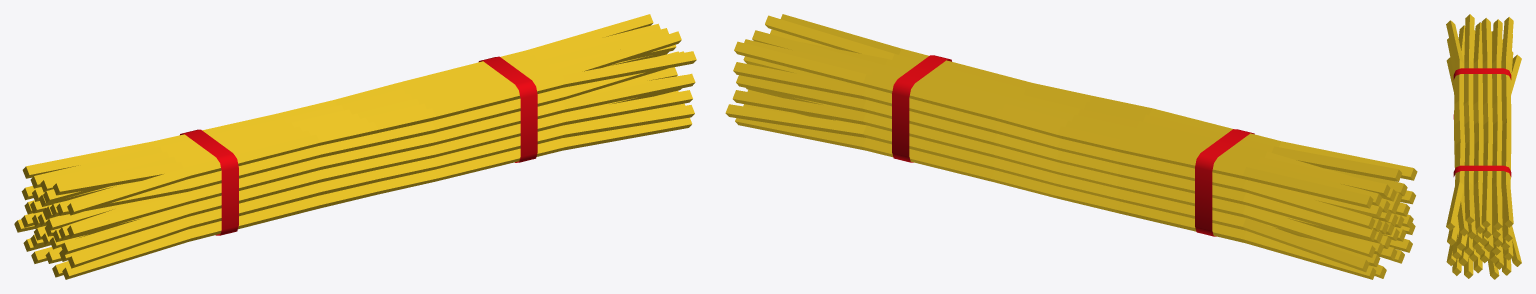
File: thatch.glb
3 renders of one model, left to right at view 1: azimuth 30°, elevation 25°; view 2: azimuth 150°, elevation 25°; view 3: azimuth 270°, elevation 25°, orthographic. The views are drawn at different scales.
Parts seen in each view (by area): view 1: Bundle, Plane.001, Plane; view 2: Bundle, Plane, Plane.001; view 3: Bundle, Plane.001, Plane.
Part boxes in pixels (box(x1,y1,x2,y2)): Bundle: box(14, 14, 696, 279); Plane.001: box(180, 129, 238, 235); Plane: box(478, 56, 537, 162); Bundle: box(725, 14, 1417, 279); Plane: box(892, 55, 951, 162); Plane.001: box(1195, 129, 1254, 236); Bundle: box(1446, 14, 1521, 279); Plane.001: box(1453, 68, 1511, 119); Plane: box(1453, 165, 1511, 176).
Size of the model in its own units: 1.57 by 0.2243 by 0.2466.
